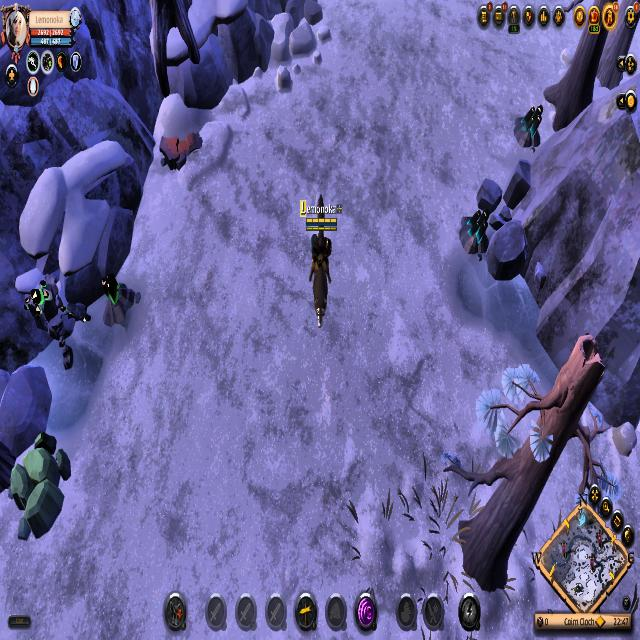ore tier 3: (96, 265, 135, 338)
ore tier 4: (459, 201, 492, 258), (518, 103, 546, 156)
rock tier 3: (8, 432, 73, 540)
